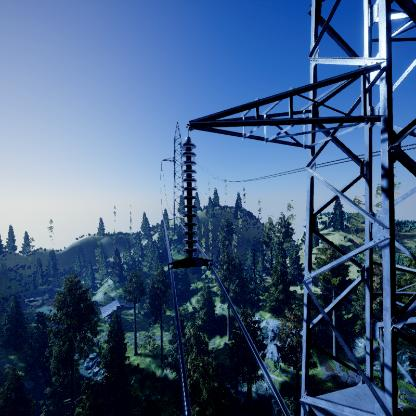insulator: (179, 141, 201, 254)
